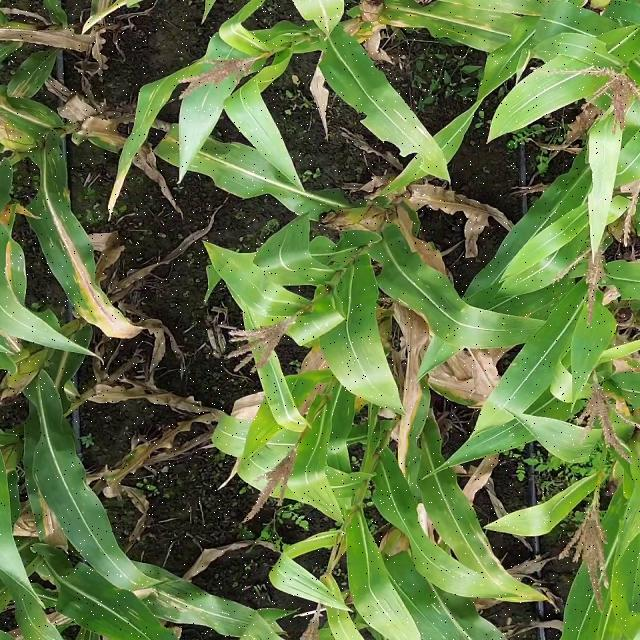gray-leaf-spot: (15, 122, 136, 338), (169, 131, 327, 196), (131, 584, 288, 640), (382, 8, 554, 57), (33, 470, 127, 557)
northern-leaf-blight: (0, 76, 60, 158)
southern-leaf-blight: (407, 484, 529, 604), (258, 298, 375, 382), (418, 290, 570, 354)
